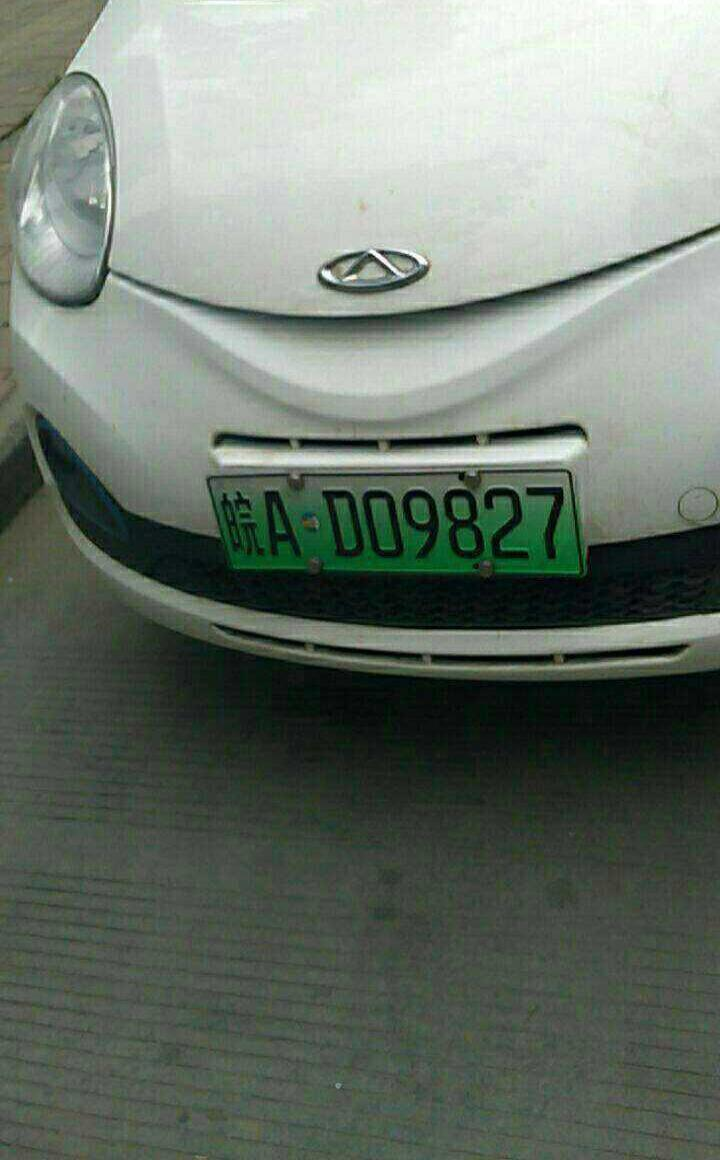car_green: (198, 468, 596, 592)
